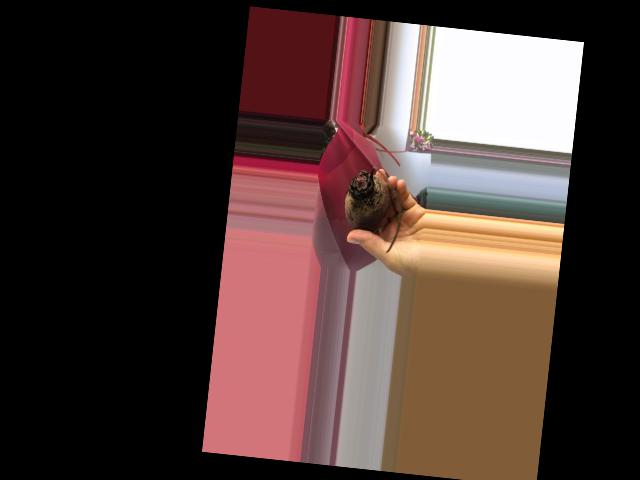beet: (340, 163, 406, 253)
